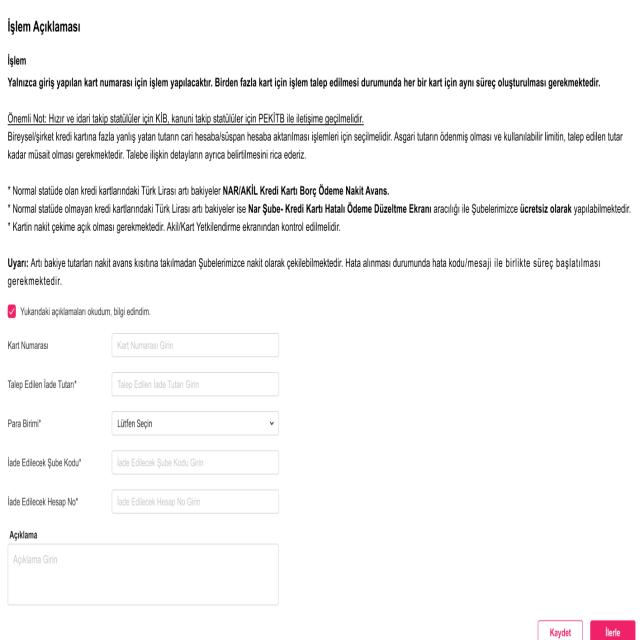QLabel: (6, 130, 624, 162), (8, 76, 602, 89), (30, 258, 603, 270), (7, 110, 365, 128), (6, 221, 342, 234), (7, 202, 247, 216), (7, 184, 220, 198), (248, 203, 432, 215), (222, 185, 392, 197), (6, 16, 82, 37), (7, 455, 82, 471), (7, 377, 78, 392), (7, 495, 79, 509), (434, 205, 518, 214), (574, 204, 631, 216), (7, 276, 62, 288), (519, 203, 572, 215), (6, 339, 50, 352), (7, 417, 42, 430), (8, 529, 40, 540), (6, 52, 26, 69), (6, 256, 29, 270), (550, 627, 572, 639), (605, 626, 620, 638)
VBtn: (538, 619, 584, 640), (590, 619, 636, 640)
VCheckbox: (6, 302, 152, 320)
VCombobox: (112, 411, 280, 436)
VTextField: (111, 332, 280, 358), (111, 450, 280, 476), (112, 371, 280, 397), (112, 488, 280, 514)
VTextarea: (7, 542, 280, 608)
